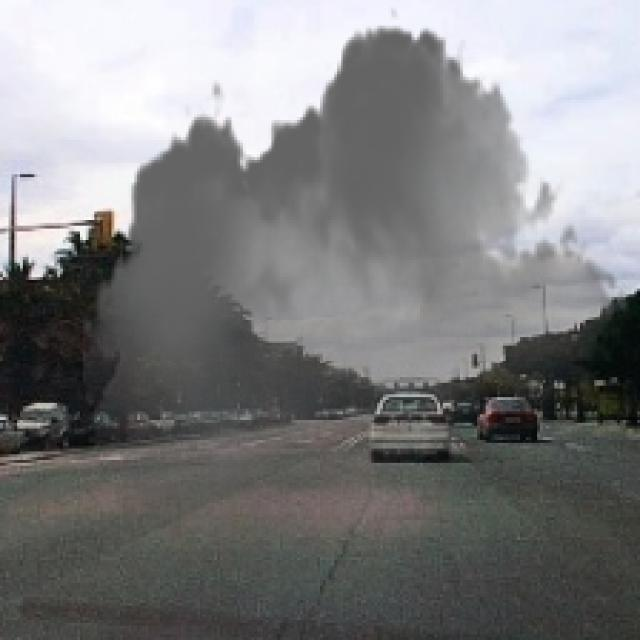smoke: (83, 6, 631, 568)
